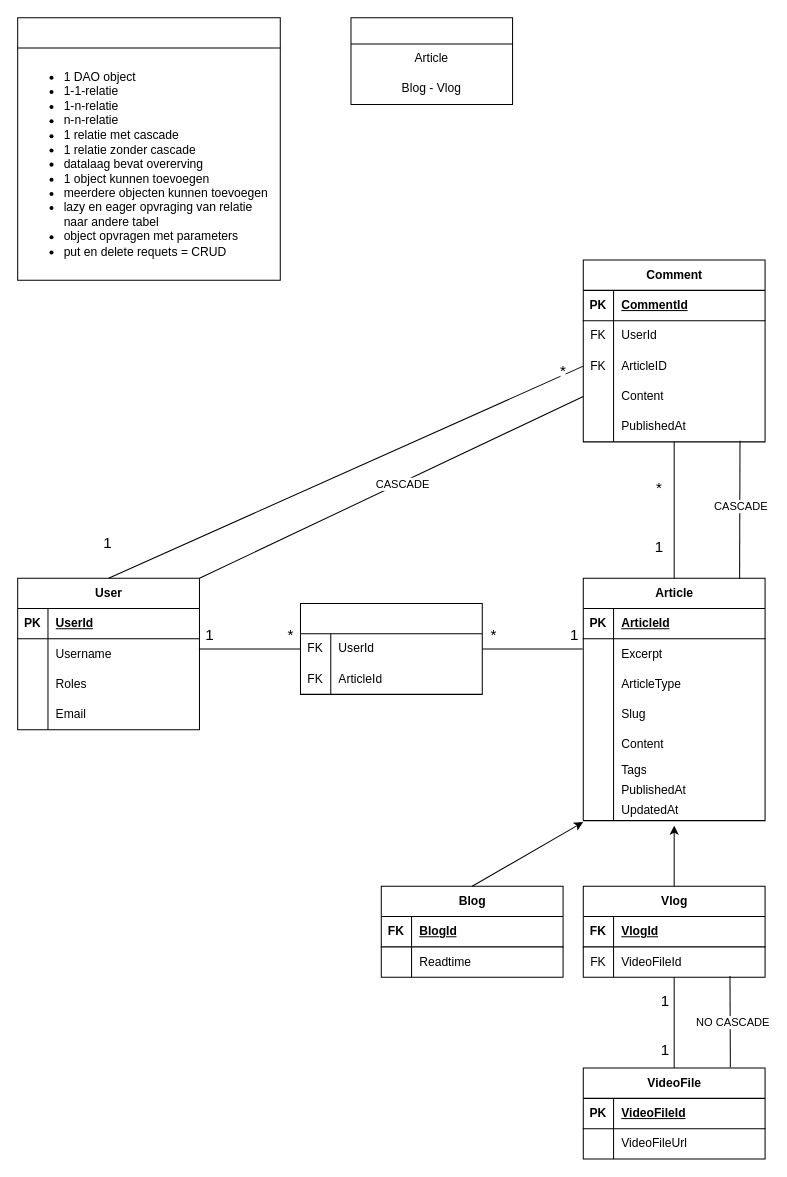
Image size: 787x1177. Some labels were removed from this diagram. Here are the shapes that lost their labels. From the top down, the box of each, then its label:
(350, 17, 513, 105): Overerving
(17, 17, 280, 280): Must Haves
(299, 602, 482, 694): User_Article
